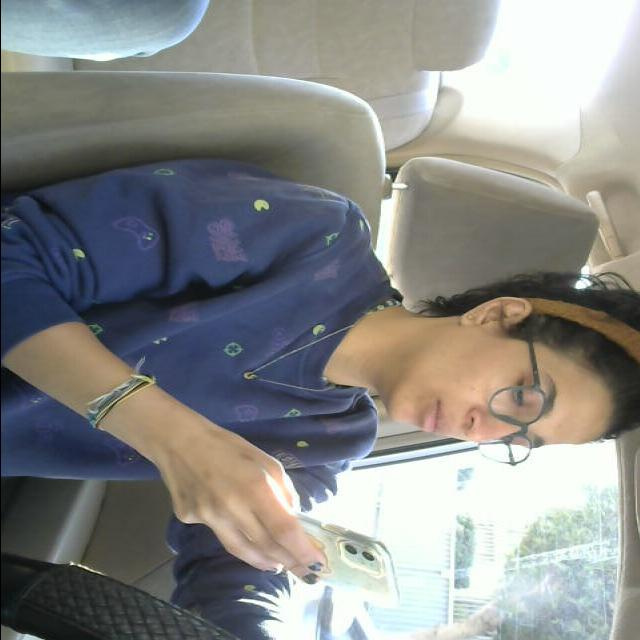mobile use: (210, 517, 403, 605)
